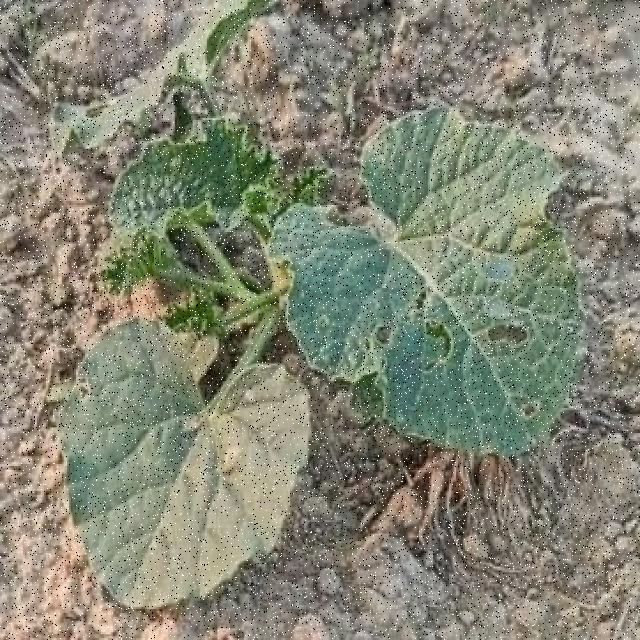plant: (62, 108, 582, 606)
